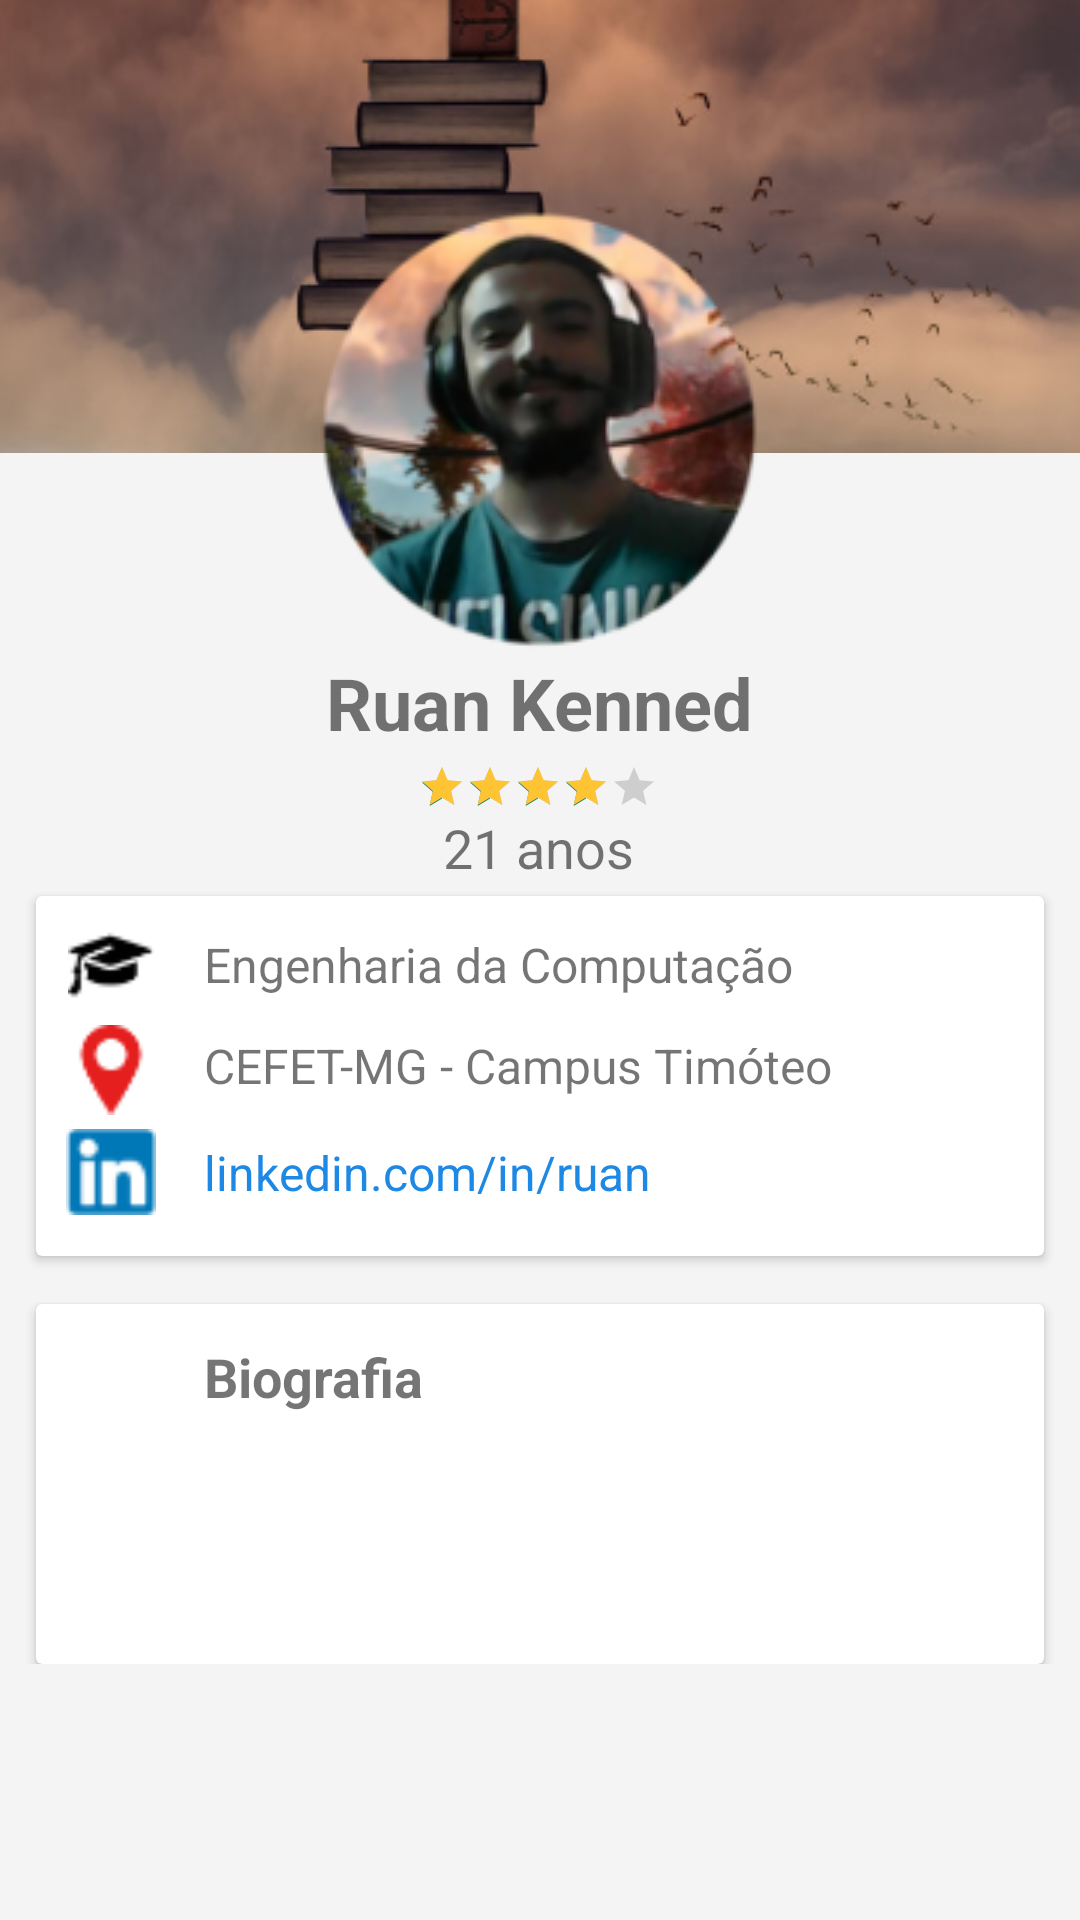

Icon bounding boxes for this 1080x1920 phone screenshot, format (x1, y1, x2, y2):
chapeu: (68, 933, 153, 997)
local: (79, 1025, 143, 1115)
